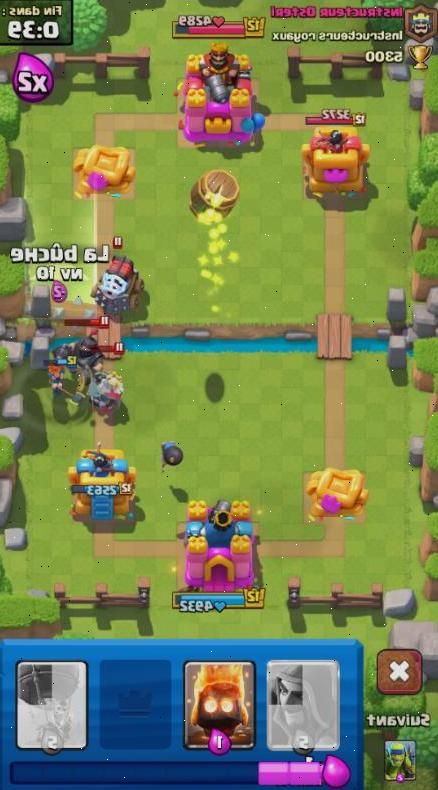enemy_mega_knight: (50, 316, 109, 384)
enemy_royal_ghost: (89, 342, 132, 413)
enemy_sparky: (90, 251, 150, 312)
player_bomber: (154, 432, 193, 475)
player_goblin_barrel: (182, 165, 253, 312)
player_valkyrie: (37, 355, 85, 410)
